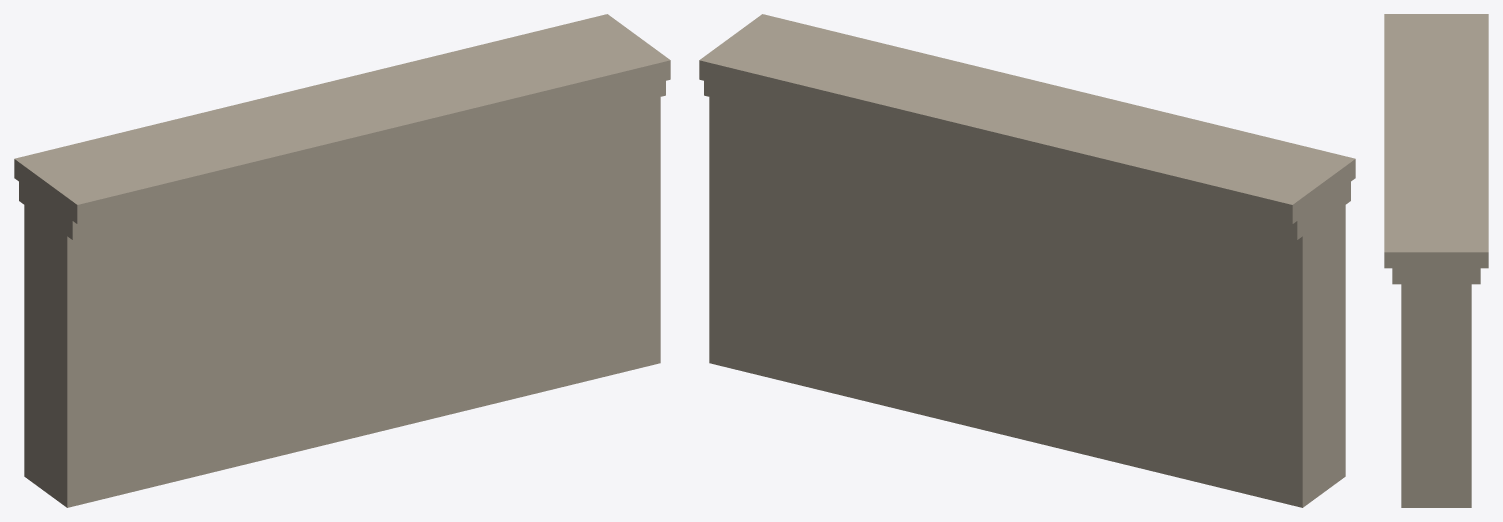
Rendered from Village_Wall_Plaster_1m_Roof_A.fbx.
The picture shows the model from 3 angles, left to right: view 1: azimuth 30°, elevation 25°; view 2: azimuth 150°, elevation 25°; view 3: azimuth 270°, elevation 25°; orthographic projection. The views are drawn at different scales.
Parts seen in each view (by area): view 1: Village_Wall_2m_Roof_A.003; view 2: Village_Wall_2m_Roof_A.003; view 3: Village_Wall_2m_Roof_A.003.
Boxes of the visible parts, left/top/right/bottom form: Village_Wall_2m_Roof_A.003: left=14, top=14, right=670, bottom=507; Village_Wall_2m_Roof_A.003: left=699, top=14, right=1355, bottom=507; Village_Wall_2m_Roof_A.003: left=1384, top=14, right=1488, bottom=507.
Size of the model in its own units: 200 by 100 by 36.91.
